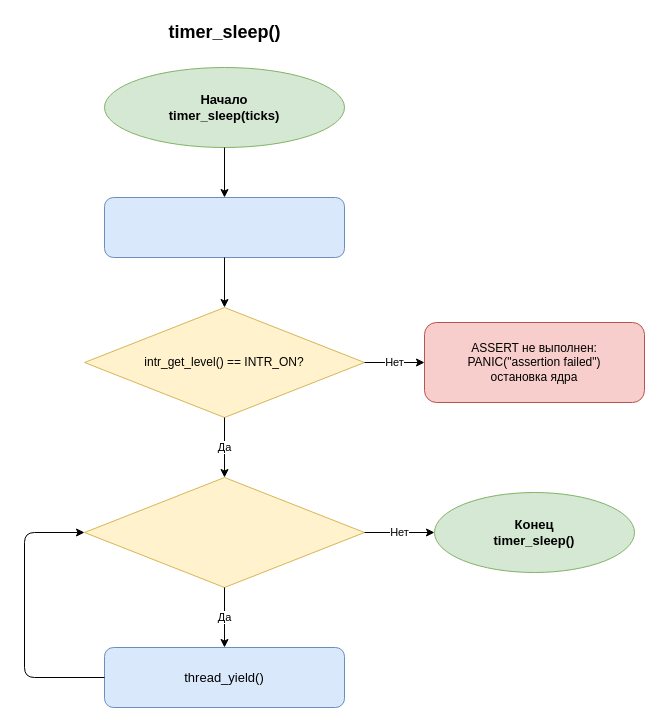
The diagram is 662 pixels wide and 725 high, and some of its shapes have lost their labels. The shapes that lost their labels are listed below. From the top down, each one's centre as x and y in pixels, then its label:
At [224,227]: "start = timer_ticks()".
At [224,532]: "timer_elapsed(start) < ticks?".
